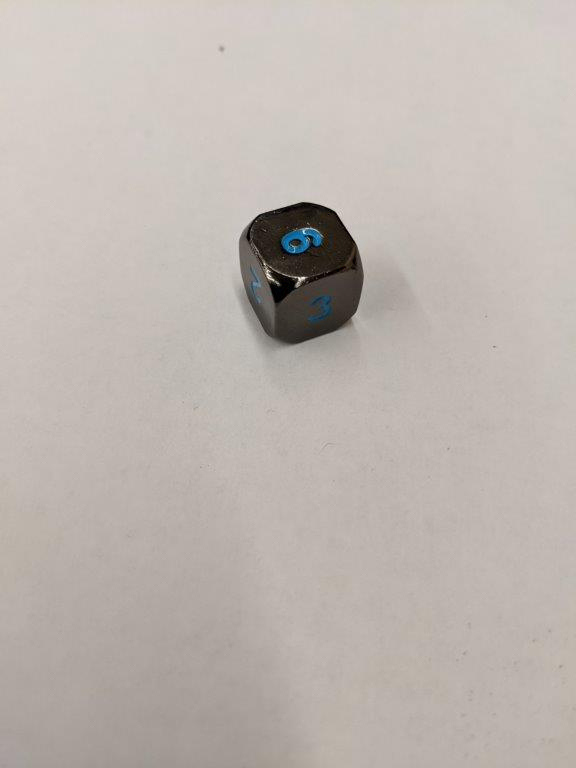d6-6: (239, 199, 361, 347)
